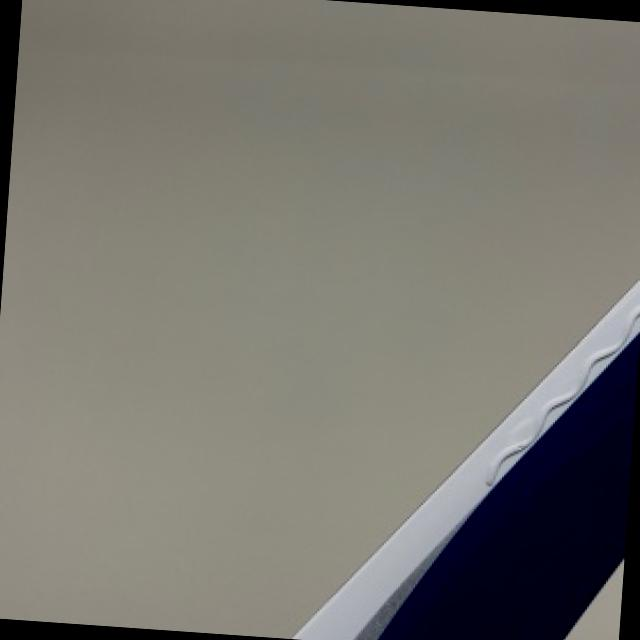healthy: (324, 11, 640, 548)
